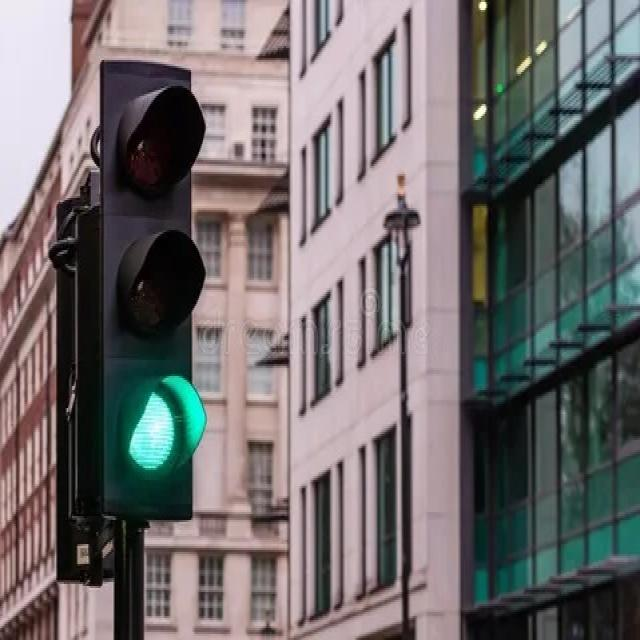yesil: (100, 57, 208, 517)
